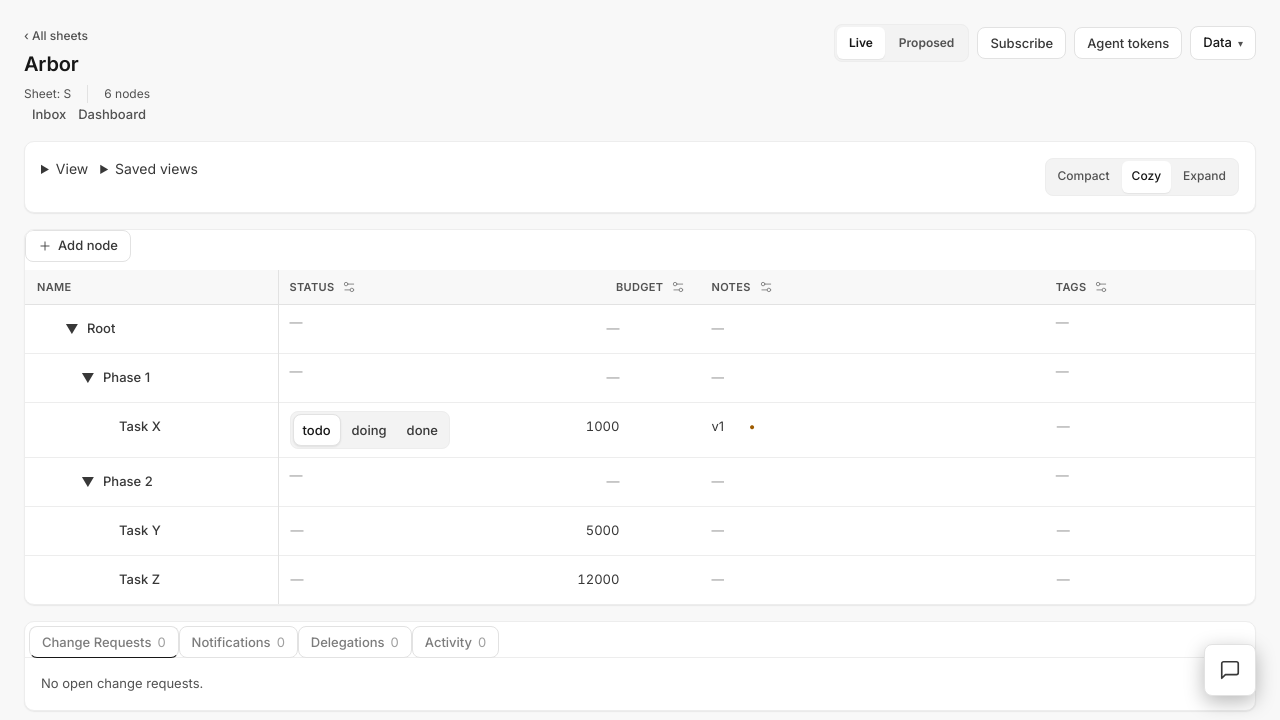
Test: App — snapshot-driven shell wiring › toggling back to Live restores the real value + editability
Expected: the table with test id "tree-table" is shown, [25,270,1255,604]
Click the button with test id "view-mode-proposed" at x=927, y=43, box [887,27,966,59]
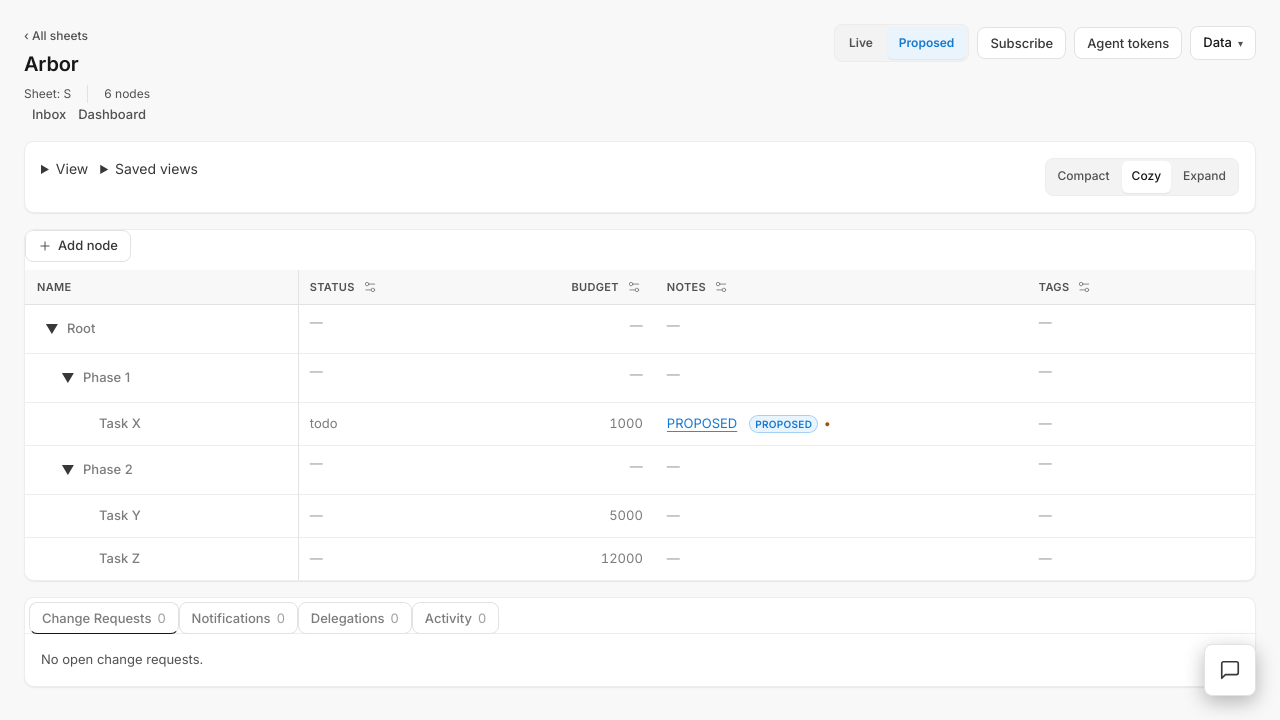
Now the element with test id "cell" shows "PROPOSED", box [667,415,737,431]
# Back to Live: real value + editable again.
Click the button with test id "view-mode-live" at x=861, y=43, box [837,27,885,59]
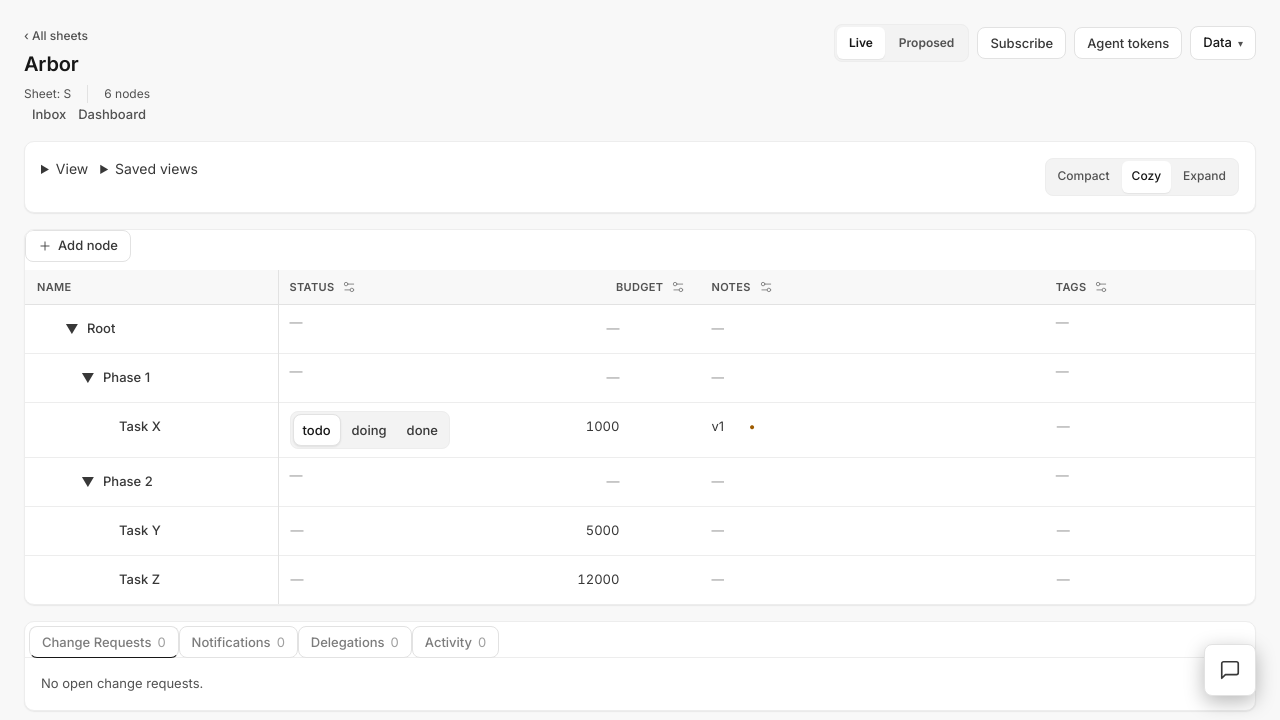
Now the element with test id "cell" shows "v1", box [712,418,724,434]
# Editing works again.
Click the element with test id "cell" showing "v1 •" at x=718, y=426, box [712,418,755,434]
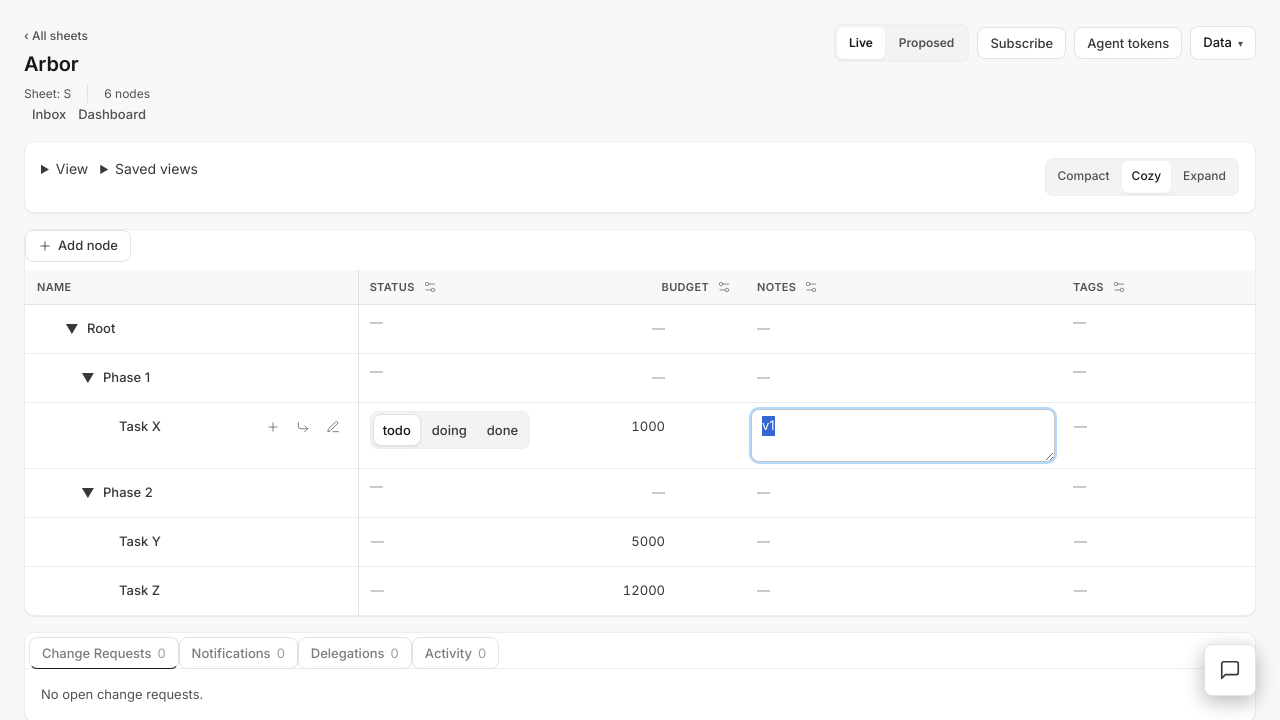
Now the text box with test id "cell-input" is shown, box [751,409,1055,462]
